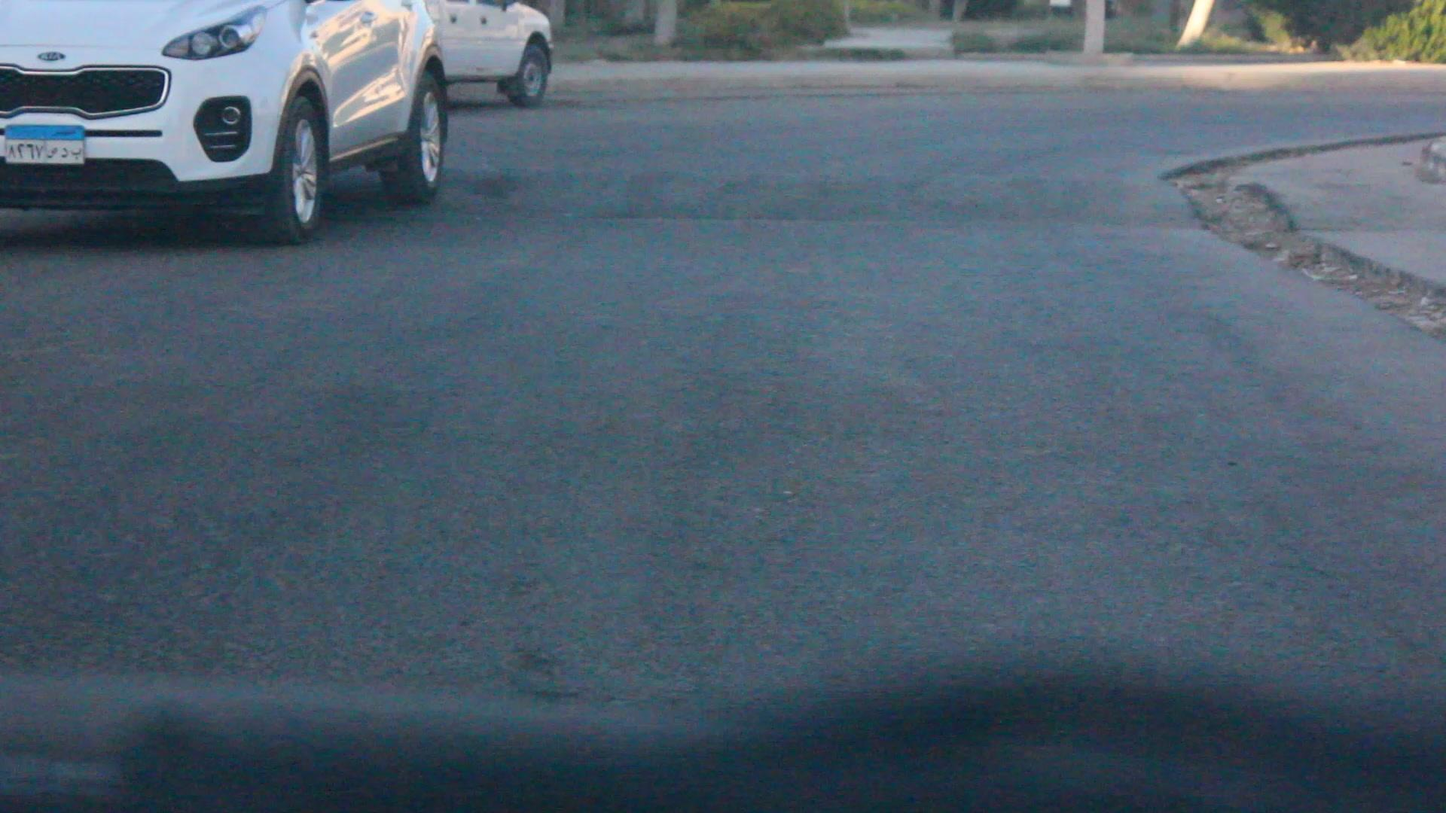Bump: (383, 140, 1195, 227)
